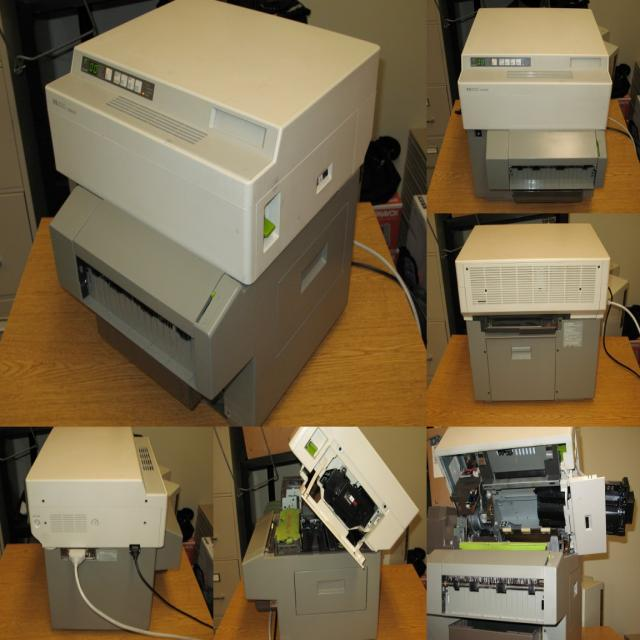printer: (44, 0, 380, 426), (426, 424, 634, 640), (24, 425, 183, 632), (457, 5, 618, 203), (454, 221, 610, 402)
